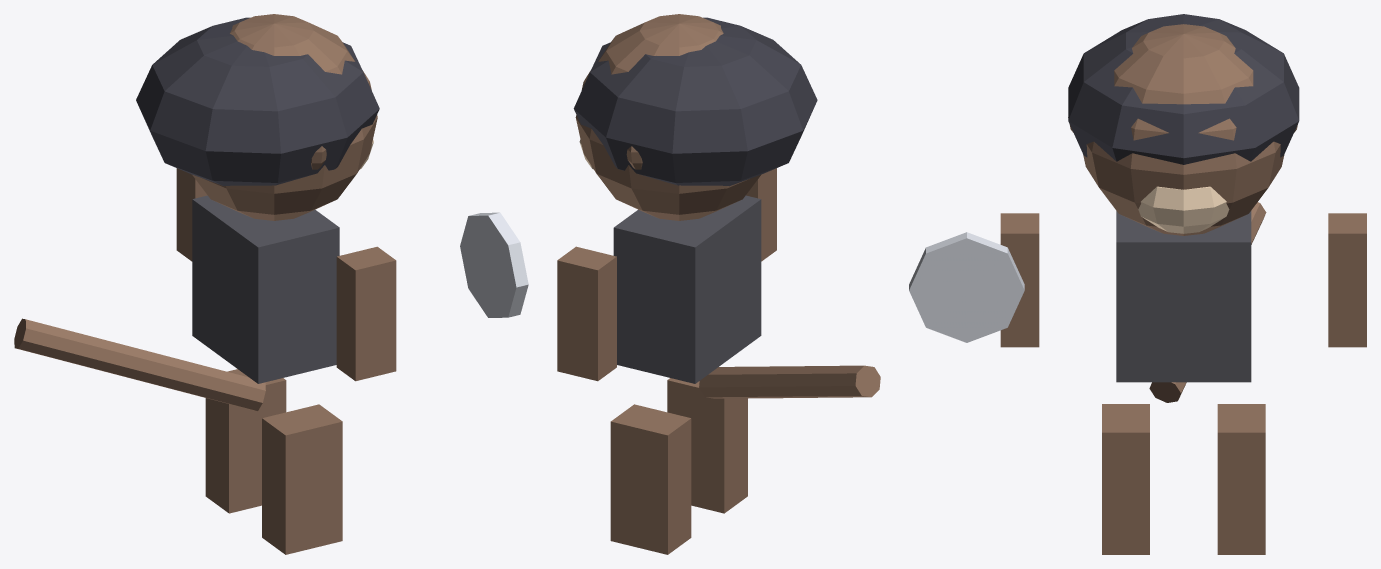
File: tower_ninja.glb
The picture shows the model from 3 angles, left to right: view 1: azimuth 30°, elevation 25°; view 2: azimuth 150°, elevation 25°; view 3: azimuth 270°, elevation 25°; orthographic projection. The views are drawn at different scales.
Parts seen in each view (by area): view 1: tower_ninja; view 2: tower_ninja; view 3: tower_ninja.
Part boxes in pixels (x1,y1,x2,y2): tower_ninja: [14, 14, 528, 554]; tower_ninja: [557, 14, 880, 554]; tower_ninja: [909, 14, 1366, 554].
Bounding box in the file's own units: 1.25 × 1.7 × 1.39.
